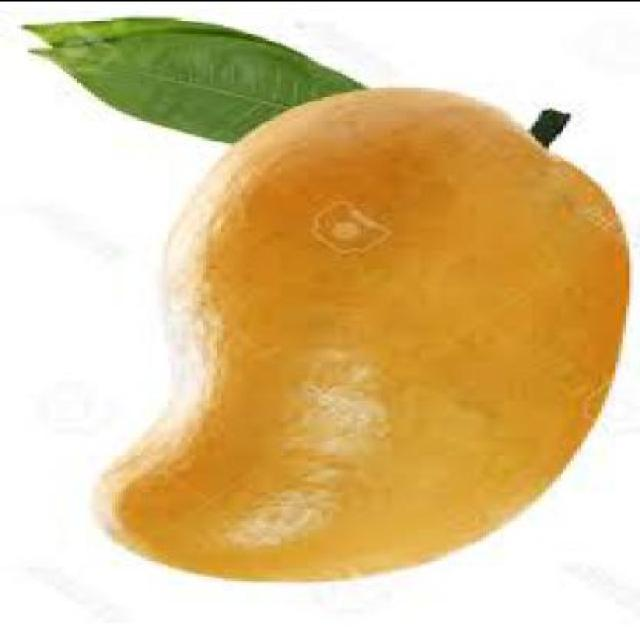BIODEGRADABLE: (84, 86, 625, 585), (21, 40, 364, 142), (14, 18, 255, 50)
